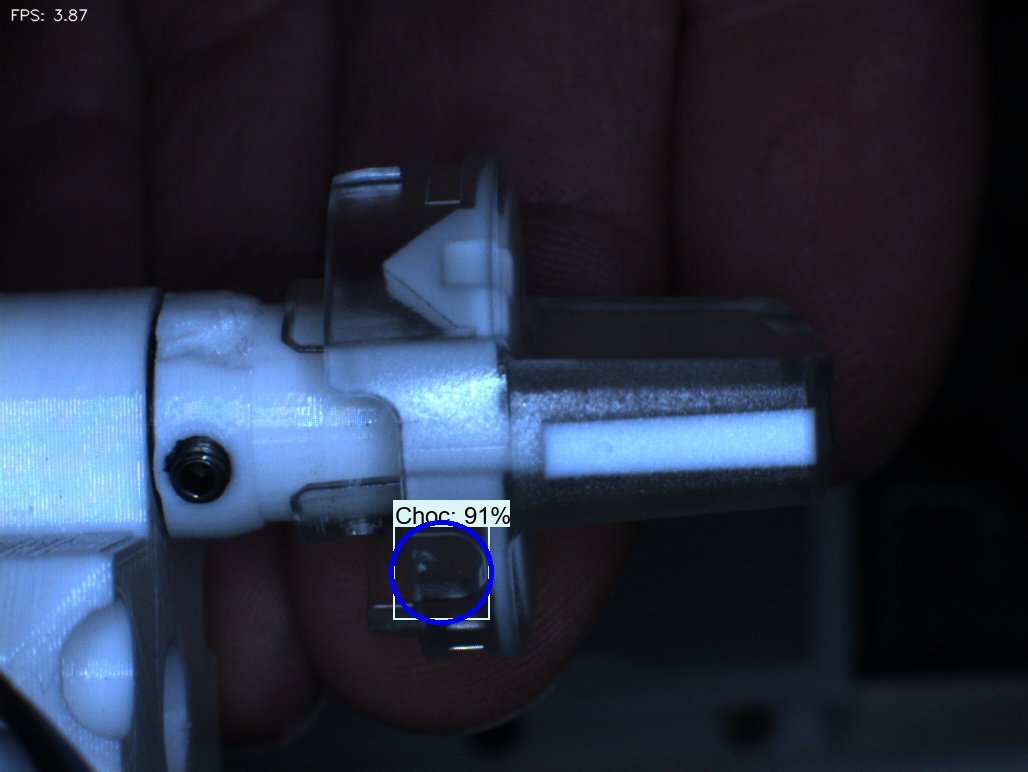DentOk: (356, 224, 429, 323)
